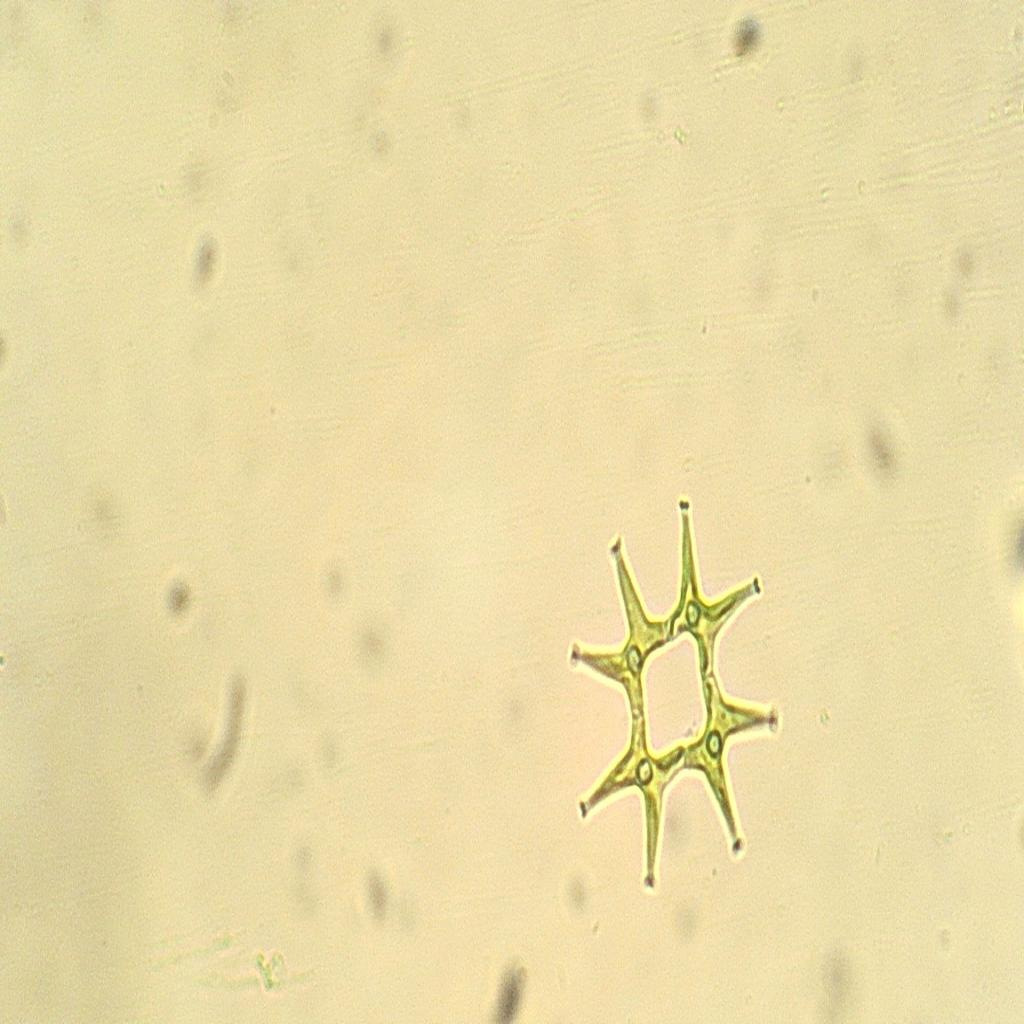Pediastrum_75O: (556, 456, 794, 921)
